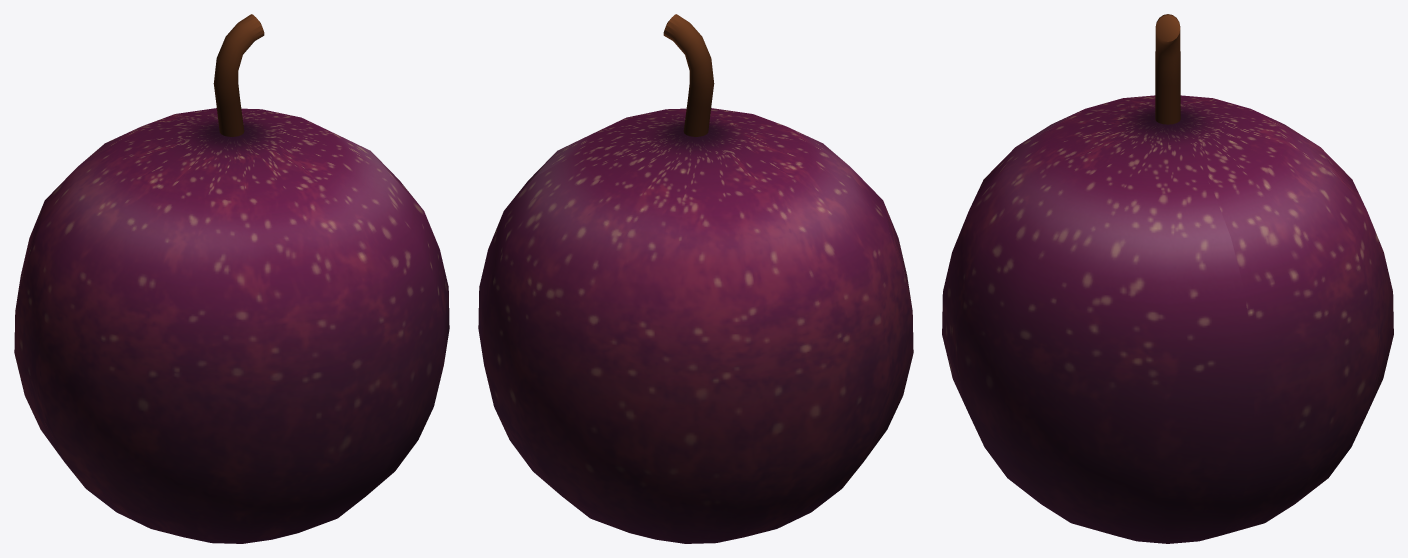
Rendered from PassionFruit_Purple.fbx.
3 views of the same model, side by side, from view 1: azimuth 30°, elevation 25°; view 2: azimuth 150°, elevation 25°; view 3: azimuth 270°, elevation 25° (orthographic). The views are drawn at different scales.
Visible parts, largest first — view 1: PassionFruit_Purple; view 2: PassionFruit_Purple; view 3: PassionFruit_Purple.
Part boxes in pixels (x1,y1,x2,y2): PassionFruit_Purple: [14, 14, 449, 543]; PassionFruit_Purple: [478, 14, 913, 543]; PassionFruit_Purple: [942, 14, 1393, 543].
Bounding box in the file's own units: 33.57 × 42.65 × 33.57.
